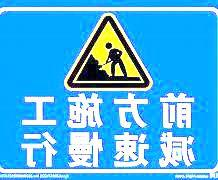sign: (2, 4, 210, 175)
